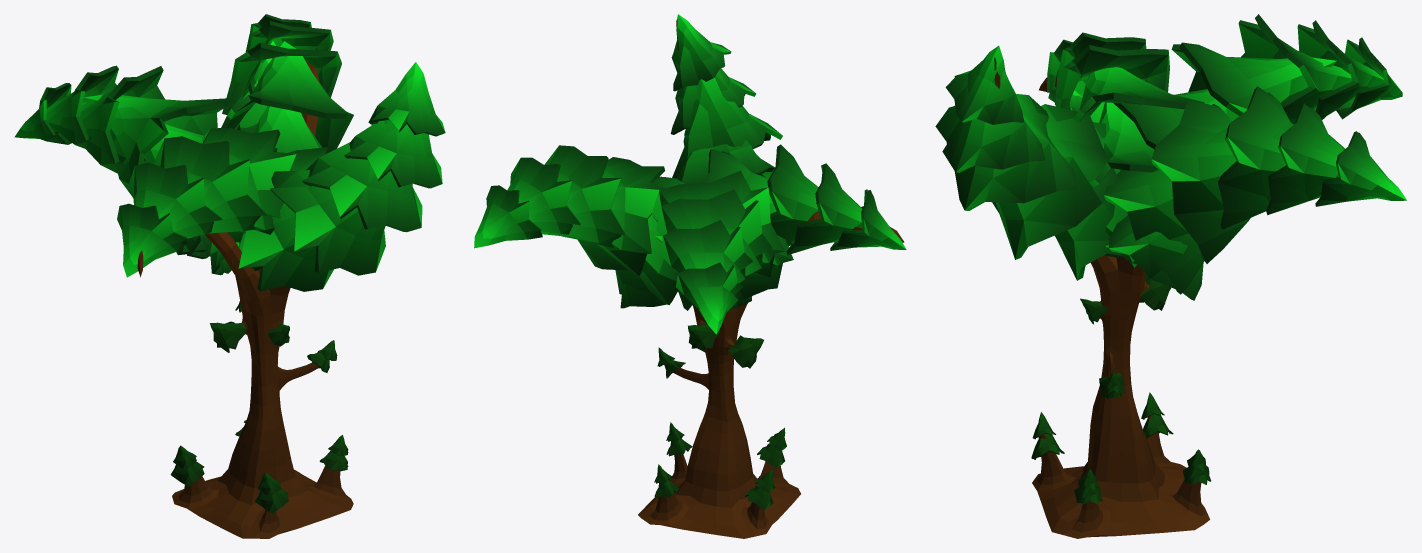
Rendered from Tree_3 1.fbx.
3 views of the same model, side by side, from view 1: azimuth 30°, elevation 25°; view 2: azimuth 150°, elevation 25°; view 3: azimuth 270°, elevation 25° (orthographic). The views are drawn at different scales.
Visible parts, largest first — view 1: Cube.002, Plane.045, Plane.044, Plane.038, Plane.014, Plane.031, Plane.046, Plane.043, Plane.013, Plane.049, Plane.030, Plane.012 (+9 smaller); view 2: Cube.002, Plane.038, Plane.037, Plane.044, Plane.030, Plane.029, Plane.036, Plane.031, Plane.014, Plane.013, Plane.015, Plane.035 (+10 smaller); view 3: Cube.002, Plane.038, Plane.045, Plane.037, Plane.044, Plane.031, Plane.039, Plane.036, Plane.043, Plane.030, Plane.042, Plane.014 (+11 smaller).
Part boxes in pixels (bbox=[...]): Cube.002: bbox=[137, 62, 353, 538]; Plane.045: bbox=[270, 170, 390, 275]; Plane.044: bbox=[302, 124, 422, 232]; Plane.038: bbox=[221, 41, 353, 152]; Plane.014: bbox=[154, 136, 266, 238]; Plane.031: bbox=[84, 94, 230, 197]; Plane.046: bbox=[238, 203, 333, 291]; Plane.043: bbox=[344, 119, 442, 188]; Plane.013: bbox=[129, 163, 222, 237]; Plane.049: bbox=[202, 128, 296, 242]; Plane.030: bbox=[64, 66, 164, 173]; Plane.012: bbox=[117, 203, 187, 277]; Cube.002: bbox=[638, 20, 904, 538]; Plane.038: bbox=[577, 157, 664, 275]; Plane.037: bbox=[541, 145, 625, 247]; Plane.044: bbox=[672, 78, 782, 178]; Plane.030: bbox=[656, 189, 772, 276]; Plane.029: bbox=[660, 220, 752, 283]; Plane.036: bbox=[507, 157, 580, 234]; Plane.031: bbox=[651, 170, 785, 278]; Plane.014: bbox=[767, 144, 818, 246]; Plane.013: bbox=[786, 163, 862, 254]; Plane.015: bbox=[676, 262, 743, 334]; Plane.035: bbox=[474, 185, 542, 248]; Cube.002: bbox=[994, 57, 1209, 538]; Plane.038: bbox=[1151, 99, 1250, 263]; Plane.045: bbox=[992, 104, 1118, 259]; Plane.037: bbox=[1218, 86, 1293, 229]; Plane.044: bbox=[942, 94, 1077, 210]; Plane.031: bbox=[1171, 42, 1336, 115]; Plane.039: bbox=[1104, 169, 1203, 294]; Plane.036: bbox=[1266, 103, 1345, 215]; Plane.043: bbox=[935, 105, 1045, 172]; Plane.030: bbox=[1238, 14, 1352, 124]; Plane.042: bbox=[945, 45, 1024, 124]; Plane.014: bbox=[1055, 45, 1169, 110].
Size of the model in its own units: 322 by 448 by 373.
